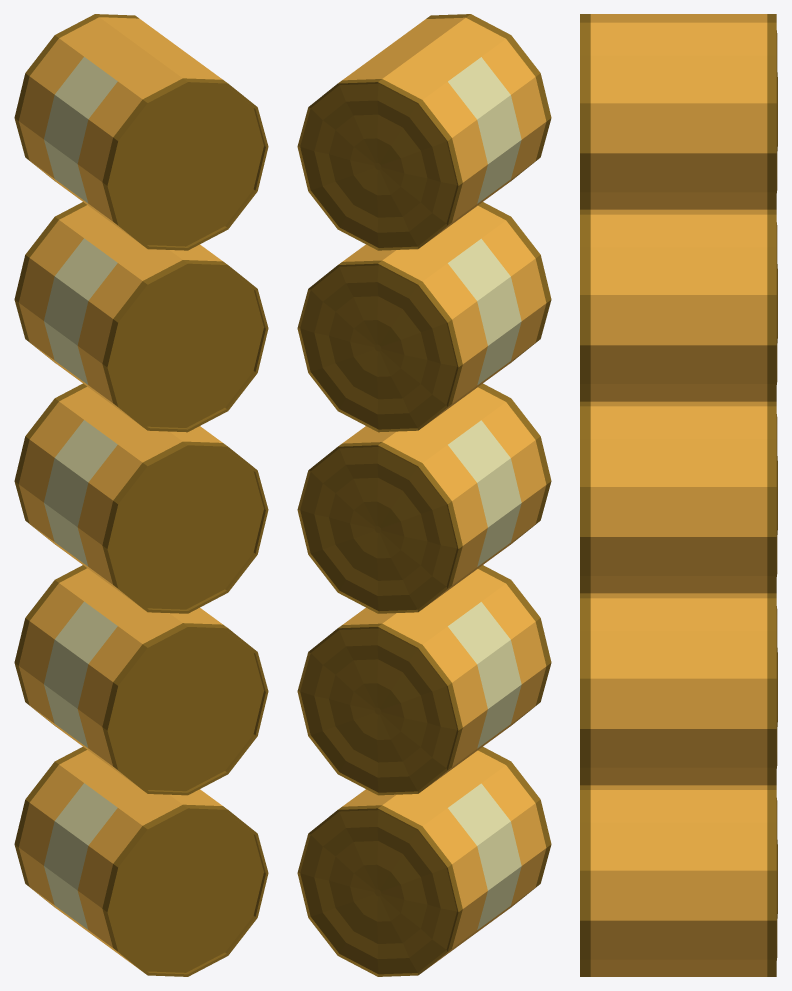
File: CanLargeShelf.fbx
The picture shows the model from 3 angles, left to right: view 1: azimuth 30°, elevation 25°; view 2: azimuth 150°, elevation 25°; view 3: azimuth 270°, elevation 25°; orthographic projection. The views are drawn at different scales.
Visible parts, largest first — view 1: Cylinder.001; view 2: Cylinder.001; view 3: Cylinder.001.
Part boxes in pixels (x1,y1,x2,y2): Cylinder.001: (14, 14, 268, 976); Cylinder.001: (297, 14, 551, 976); Cylinder.001: (580, 14, 777, 976).
Bounding box in the file's own units: 25.9 × 138 × 26.09.
